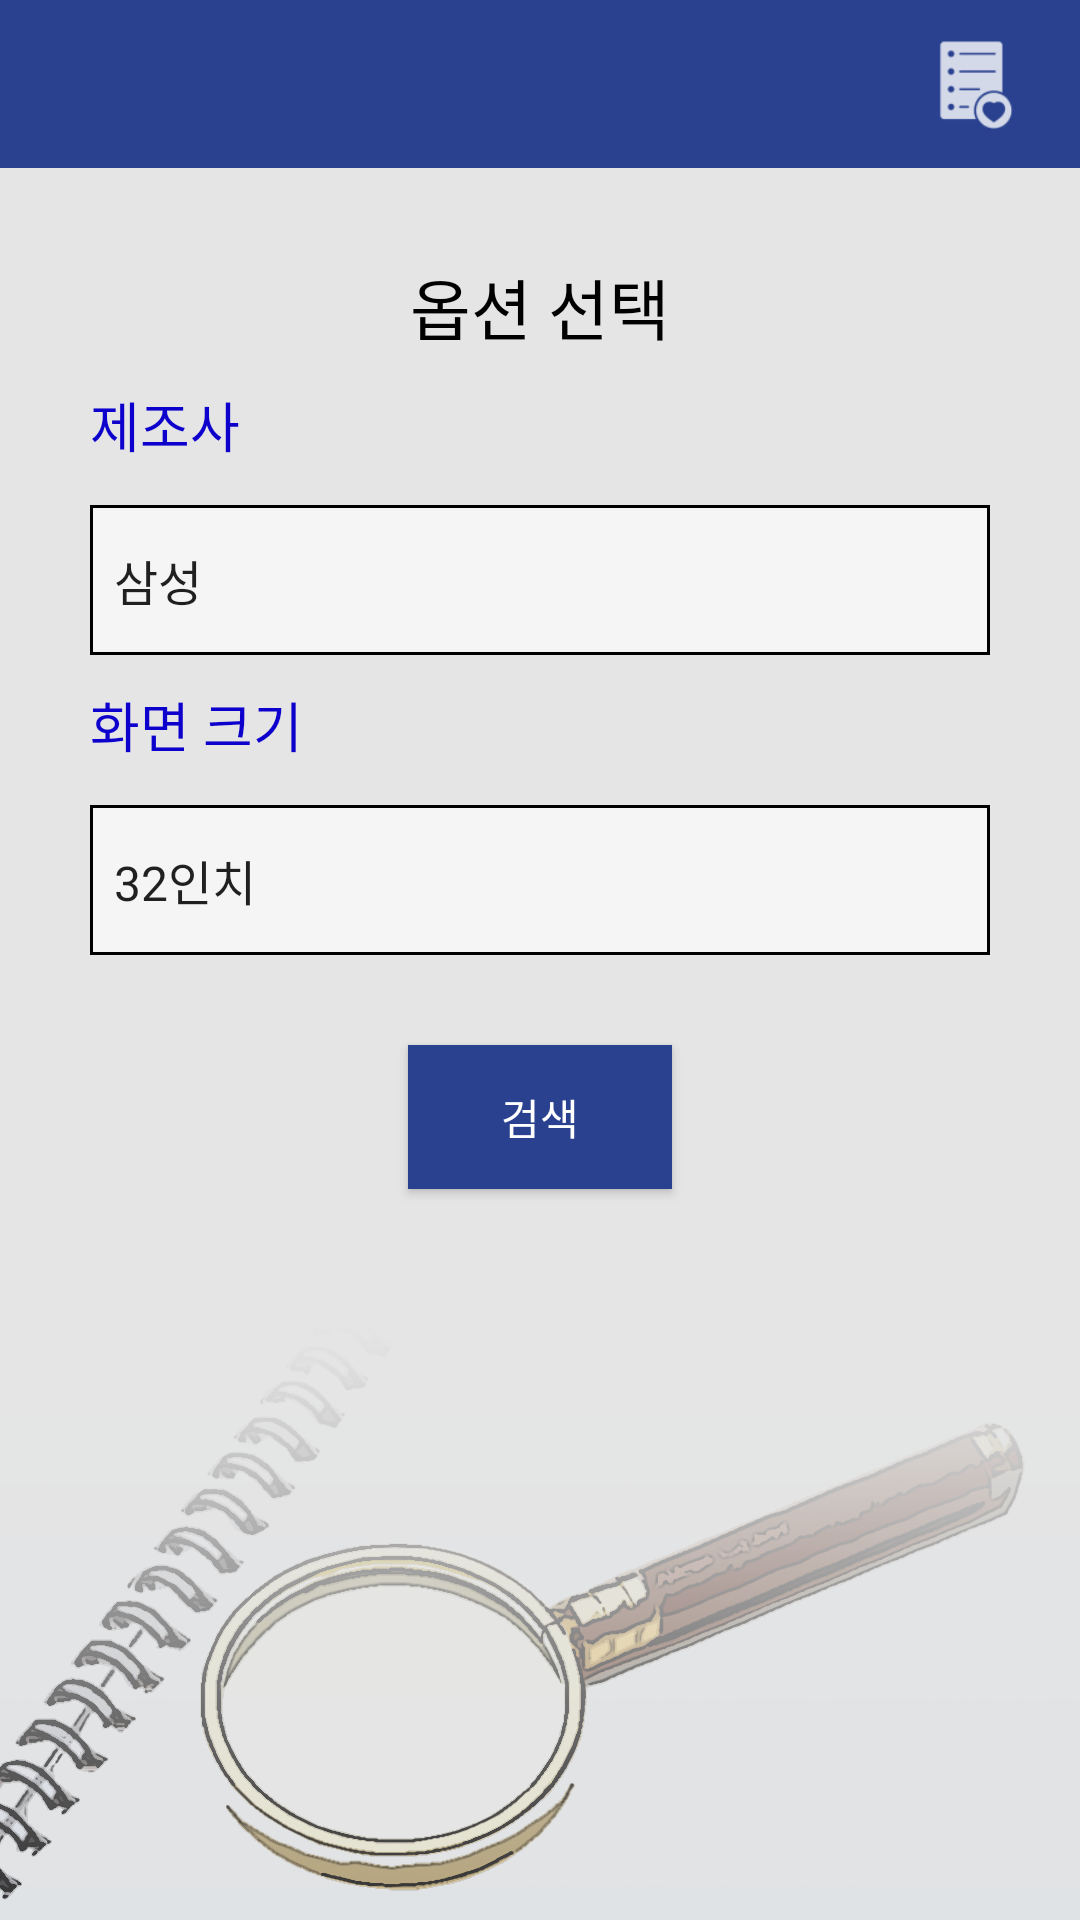

Locate icon controls on the screen. Image size 1080x1920, boxes as (x1, y1, x2, y2).
wishlist: (940, 41, 1012, 129)
